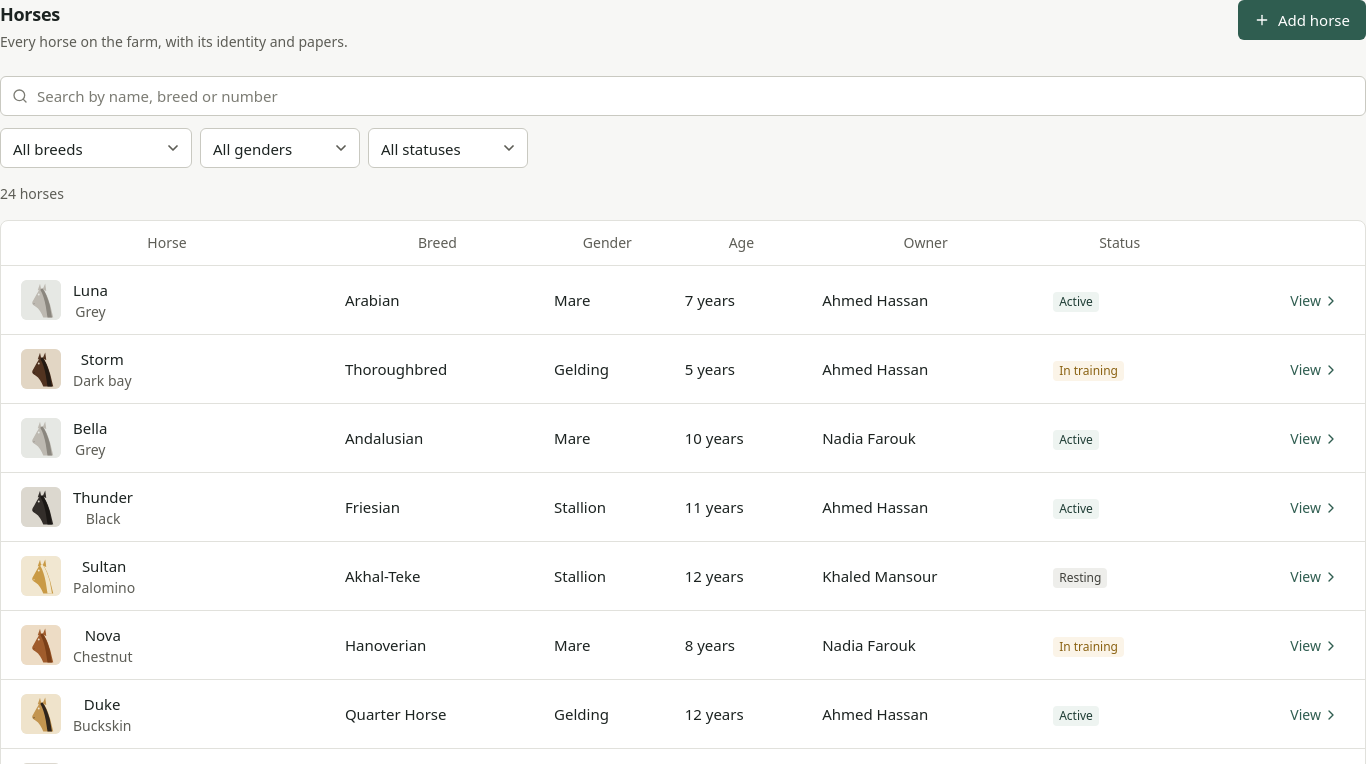
it: HorseListPage › filters the list as the user searches
The width and height of the screenshot is (1366, 764).
Type "Luna" into the search field named "search horses".
click(683, 96); type("Luna")  # box left=0, top=76, right=1365, bottom=116
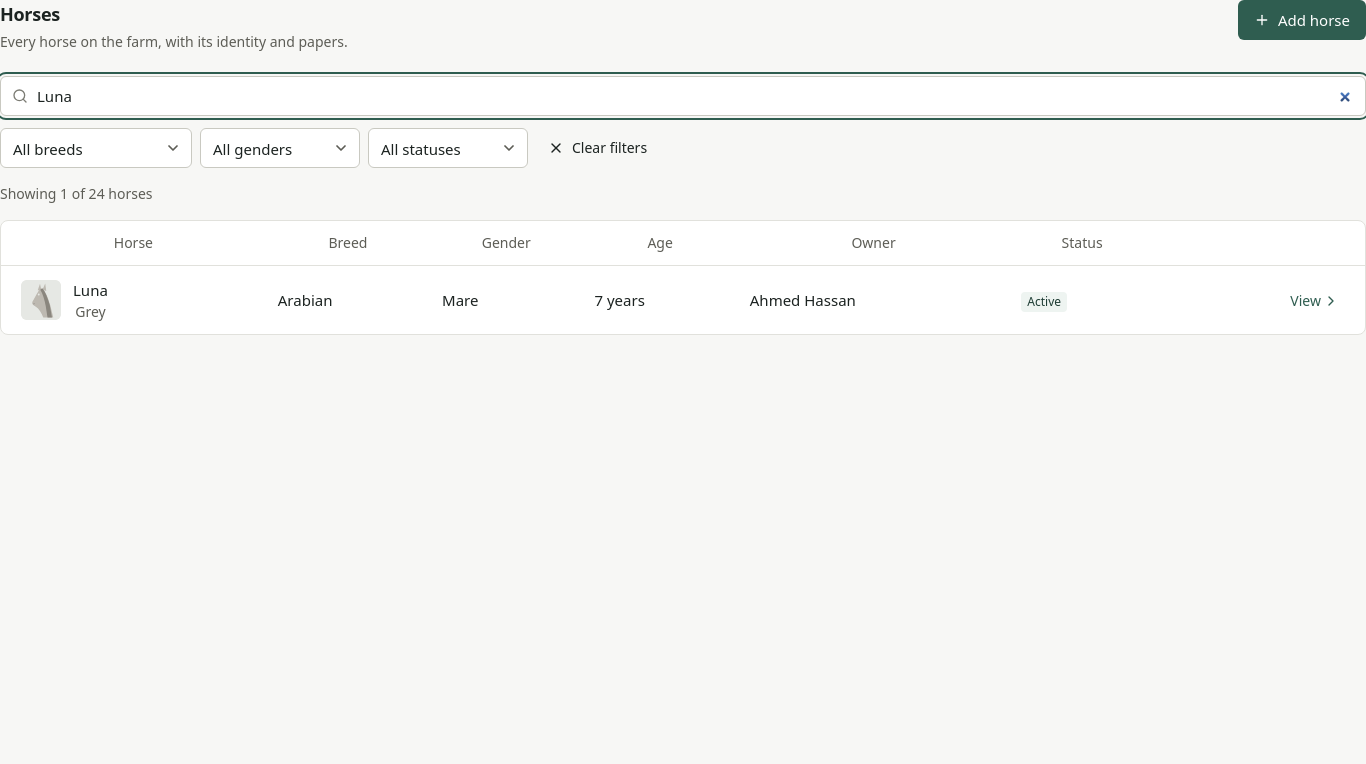
expect the text "Showing 1 of 24 horses" is shown: met, box left=0, top=184, right=152, bottom=203
